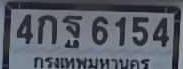1: (114, 16, 125, 45)
4: (16, 13, 32, 43), (152, 16, 168, 46)
5: (131, 16, 148, 45)
6: (91, 15, 107, 44)
A01: (37, 14, 56, 43)
A16: (62, 15, 82, 44)
BKK: (32, 54, 151, 69)
